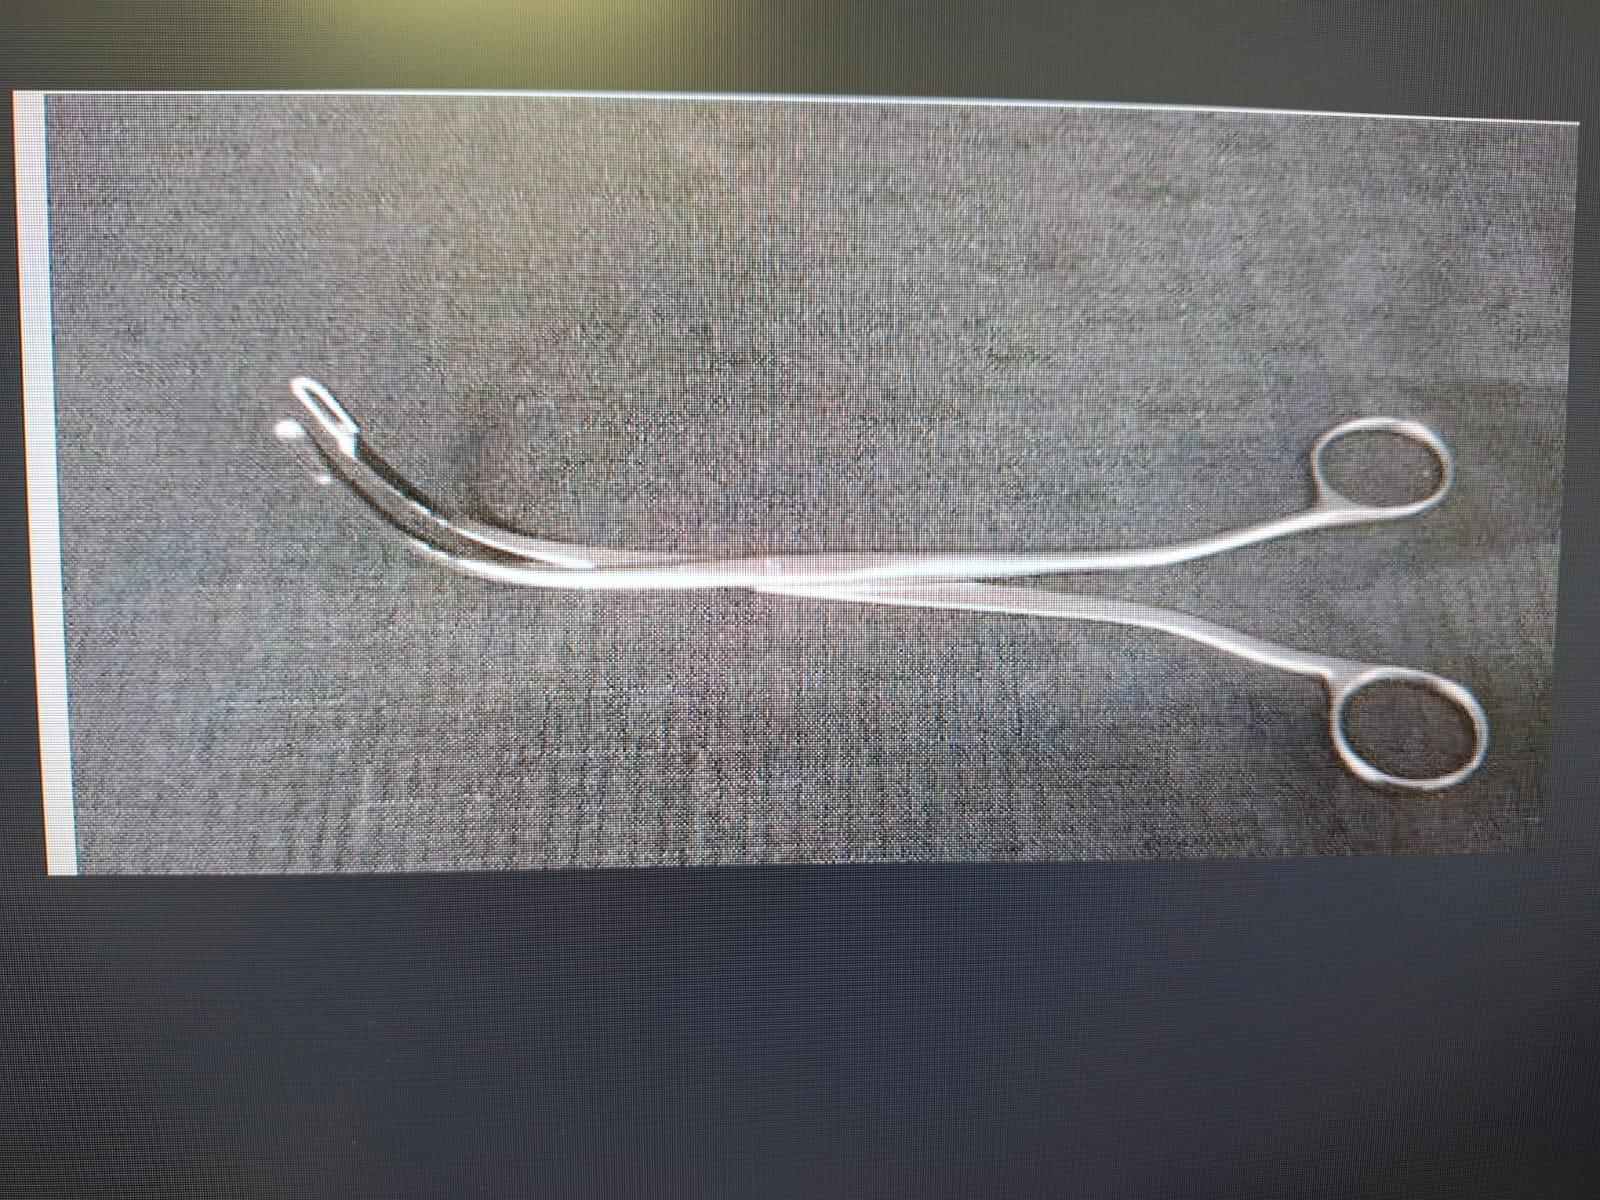Randall Forceps: (258, 324, 1516, 810)
